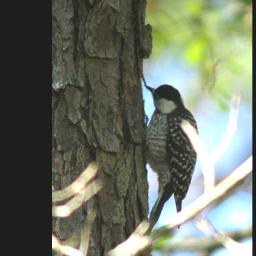Woodpecker: (142, 83, 200, 235)
